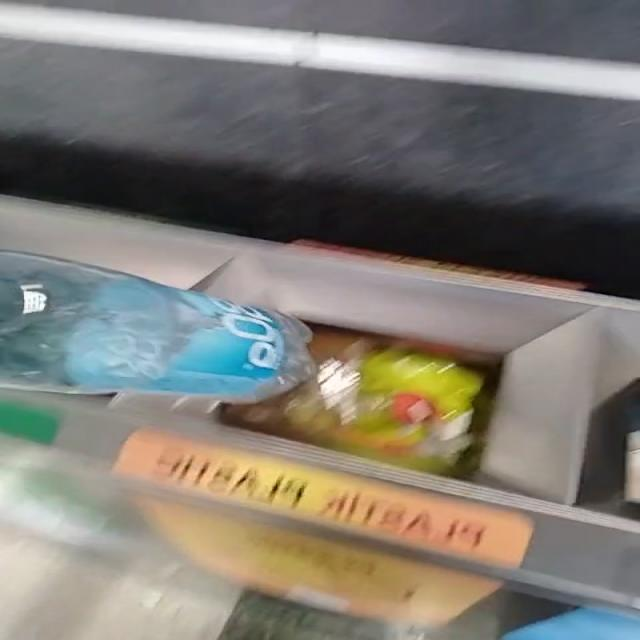Plastic: (0, 252, 313, 402)
